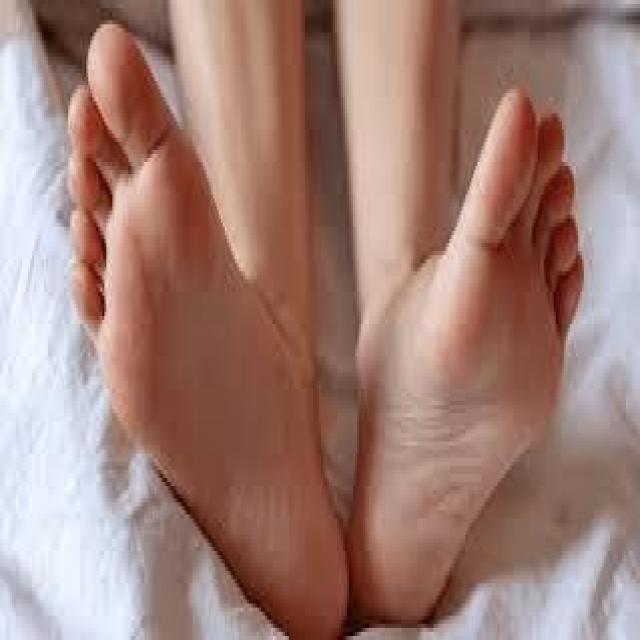No_Shoes: (24, 7, 344, 640), (374, 71, 606, 640)
